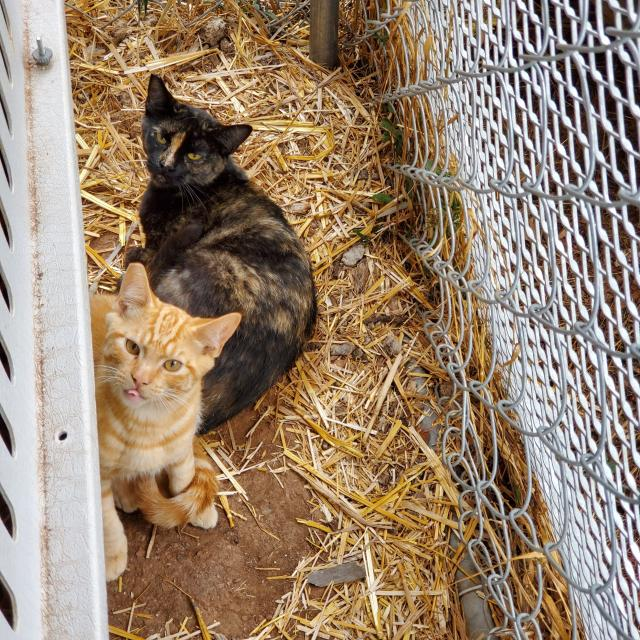cat: (126, 75, 316, 431), (90, 264, 241, 581)
